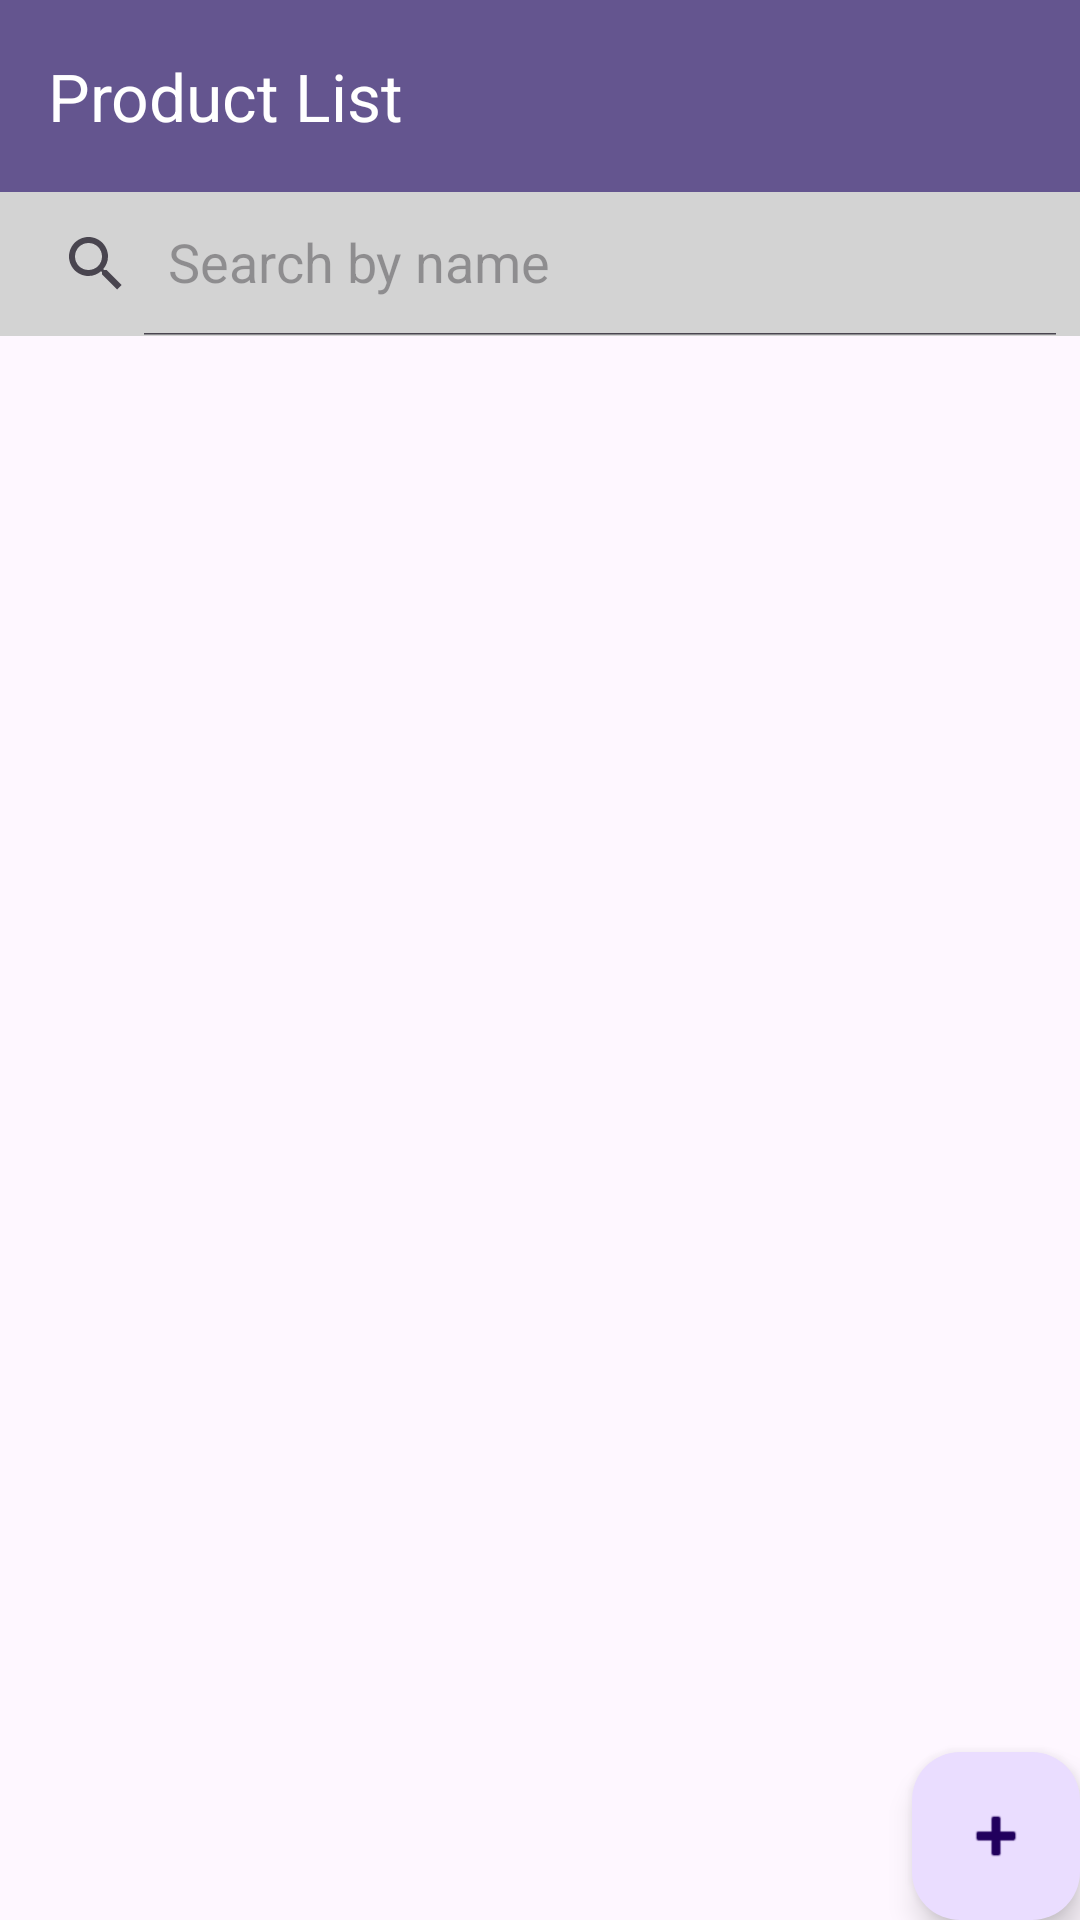

Icons on this 1080w x 1920h Android screen, each with its box as (x1, y1, x2, y2):
Add Product: (912, 1752, 1080, 1920)
